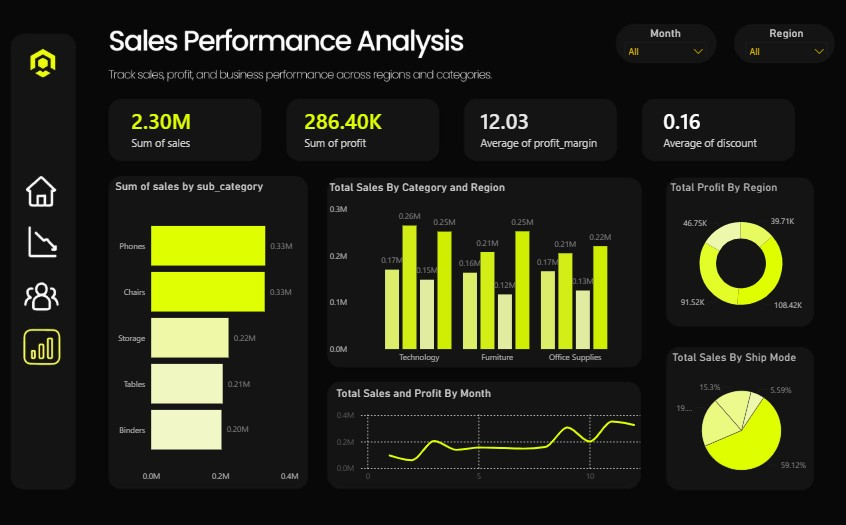

What the dashboard file says about the page in this screenshot:
{"tool":"powerbi","page":{"name":"Sales Performance Analysis","canvas":[1300,800],"ordinal":3},"visuals":[{"type":"cardVisual","title":"Total Customers","fields":{"Data":["Sum(FinalChurn_PBI.sales)"]},"box":[181.7,145,225,103.3],"z":0},{"type":"cardVisual","fields":{"Data":["Sum(FinalChurn_PBI.profit)"]},"box":[443.3,145,225,103.3],"z":1000},{"type":"cardVisual","fields":{"Data":["Avg(FinalChurn_PBI.profit_margin)"]},"box":[708.3,145,236.7,103.3],"z":2000},{"type":"cardVisual","fields":{"Data":["Avg(FinalChurn_PBI.discount)"]},"box":[983.3,145,225,103.3],"z":3000},{"type":"clusteredColumnChart","title":"Total Sales By Category and Region","fields":{"Category":["FinalChurn_PBI.category"],"Y":["Sum(FinalChurn_PBI.sales)"],"Series":["FinalChurn_PBI.region"]},"box":[504.6,275.7,479,284.7],"z":4000},{"type":"donutChart","title":"Total Profit By Region","fields":{"Y":["Sum(FinalChurn_PBI.profit)"],"Category":["FinalChurn_PBI.region"]},"box":[1018.3,275.7,222.9,221.4],"z":5000},{"type":"pieChart","title":"Total Sales By Ship Mode","fields":{"Category":["FinalChurn_PBI.ship_mode"],"Y":["Sum(FinalChurn_PBI.sales)"]},"box":[1021.3,531.7,218.4,212.4],"z":6000},{"type":"lineChart","title":"Total Sales and Profit By Month","fields":{"Category":["FinalChurn_PBI.order_month"],"Y":["Sum(FinalChurn_PBI.sales)"]},"box":[515.2,586,468.5,153.7],"z":7000},{"type":"pageNavigator","box":[38.3,260,71.7,66.7],"z":8000},{"type":"pageNavigator","box":[37.7,334.4,71.7,66.7],"z":9000},{"type":"pageNavigator","box":[37.7,418.8,71.7,76.7],"z":10000},{"type":"slicer","title":"Month","fields":{"Values":["FinalChurn_PBI.order_month"]},"box":[945,43.3,143.3,48.3],"z":11000},{"type":"slicer","title":"Region","fields":{"Values":["FinalChurn_PBI.region"]},"box":[1126.7,43.3,143.3,48.3],"z":12000},{"type":"clusteredBarChart","fields":{"Category":["FinalChurn_PBI.sub_category"],"Y":["Sum(FinalChurn_PBI.sales)"]},"box":[182.3,274.2,290.7,465.5],"z":12001}]}

Visuals, with their boxes on the page's 1300x800 design canvas (x1, y1, x2, y2). These are canvas units, not pixel positions in the 846x525 screenshot, which may show the page scaled, cropped or inside an application window:
"Total Customers" cardVisual: {"x1": 182, "y1": 145, "x2": 407, "y2": 248}
cardVisual - Sum(FinalChurn_PBI.profit): {"x1": 443, "y1": 145, "x2": 668, "y2": 248}
cardVisual - Avg(FinalChurn_PBI.profit_margin): {"x1": 708, "y1": 145, "x2": 945, "y2": 248}
cardVisual - Avg(FinalChurn_PBI.discount): {"x1": 983, "y1": 145, "x2": 1208, "y2": 248}
"Total Sales By Category and Region" clusteredColumnChart: {"x1": 505, "y1": 276, "x2": 984, "y2": 560}
"Total Profit By Region" donutChart: {"x1": 1018, "y1": 276, "x2": 1241, "y2": 497}
"Total Sales By Ship Mode" pieChart: {"x1": 1021, "y1": 532, "x2": 1240, "y2": 744}
"Total Sales and Profit By Month" lineChart: {"x1": 515, "y1": 586, "x2": 984, "y2": 740}
pageNavigator: {"x1": 38, "y1": 260, "x2": 110, "y2": 327}
pageNavigator: {"x1": 38, "y1": 334, "x2": 109, "y2": 401}
pageNavigator: {"x1": 38, "y1": 419, "x2": 109, "y2": 496}
"Month" slicer: {"x1": 945, "y1": 43, "x2": 1088, "y2": 92}
"Region" slicer: {"x1": 1127, "y1": 43, "x2": 1270, "y2": 92}
clusteredBarChart - FinalChurn_PBI.sub_category x Sum(FinalChurn_PBI.sales): {"x1": 182, "y1": 274, "x2": 473, "y2": 740}
